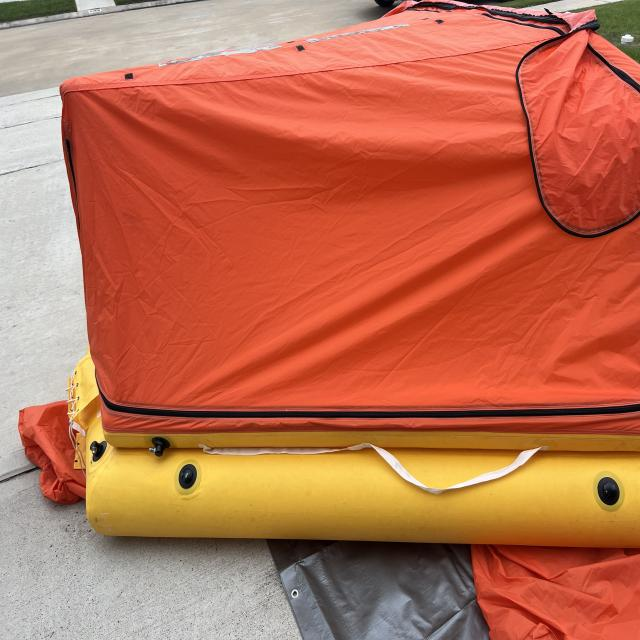Multi-person_life_raft: (18, 0, 640, 639)
